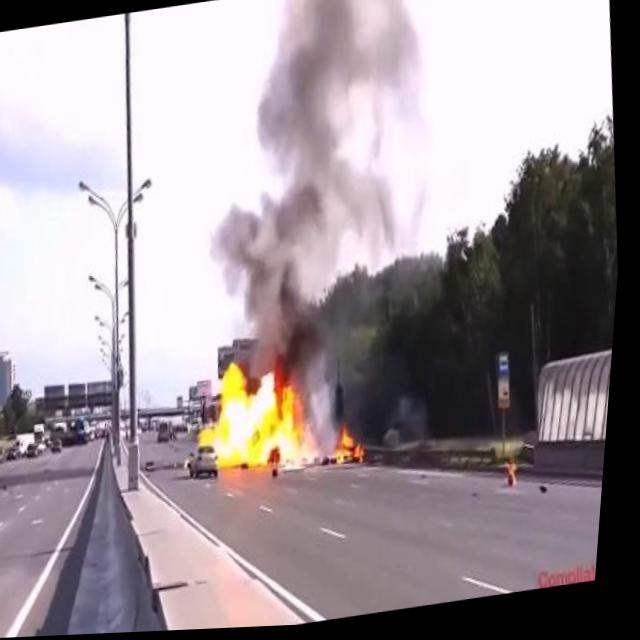fire: (191, 339, 382, 493), (511, 464, 529, 492)
